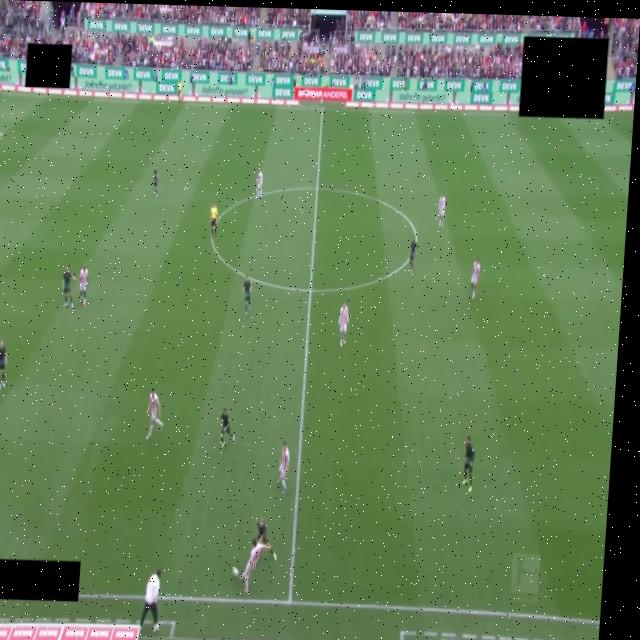ball: (232, 568, 238, 577)
player: (240, 538, 270, 593), (146, 389, 163, 439), (462, 436, 475, 492), (218, 407, 234, 447), (277, 441, 289, 493), (63, 267, 76, 307), (470, 257, 481, 299), (339, 303, 349, 346), (79, 264, 88, 307), (243, 275, 252, 315), (0, 341, 7, 390), (409, 237, 417, 273), (255, 170, 264, 198), (438, 196, 445, 228), (153, 166, 158, 196), (270, 548, 276, 560)
referee: (208, 202, 219, 240)
